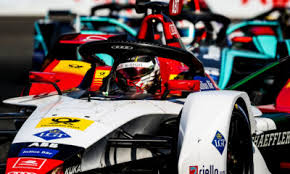FormulaOneCar: (2, 14, 287, 174)
